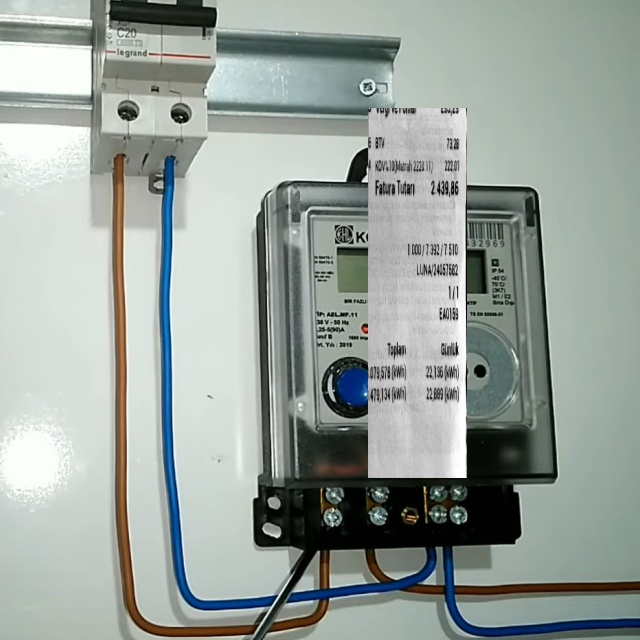electricity-bill: (368, 107, 467, 477)
